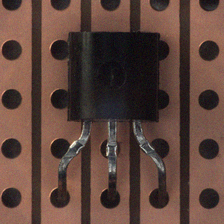body: (68, 32, 160, 121)
hole: (98, 61, 126, 88), (199, 40, 219, 61), (199, 188, 219, 209), (1, 138, 21, 159), (2, 40, 22, 60), (199, 90, 219, 110), (199, 139, 219, 159), (100, 189, 120, 209), (50, 188, 70, 208), (2, 89, 22, 109), (149, 189, 169, 209), (2, 188, 21, 208), (51, 139, 70, 159), (100, 140, 120, 158), (50, 40, 68, 60), (151, 139, 169, 158), (51, 89, 68, 109), (159, 40, 170, 61), (199, 0, 219, 11), (101, 0, 120, 11), (158, 90, 169, 109), (150, 0, 169, 11), (2, 0, 22, 10), (51, 0, 70, 10)
lead_tip: (133, 120, 167, 205), (58, 121, 91, 201), (106, 120, 117, 201)
